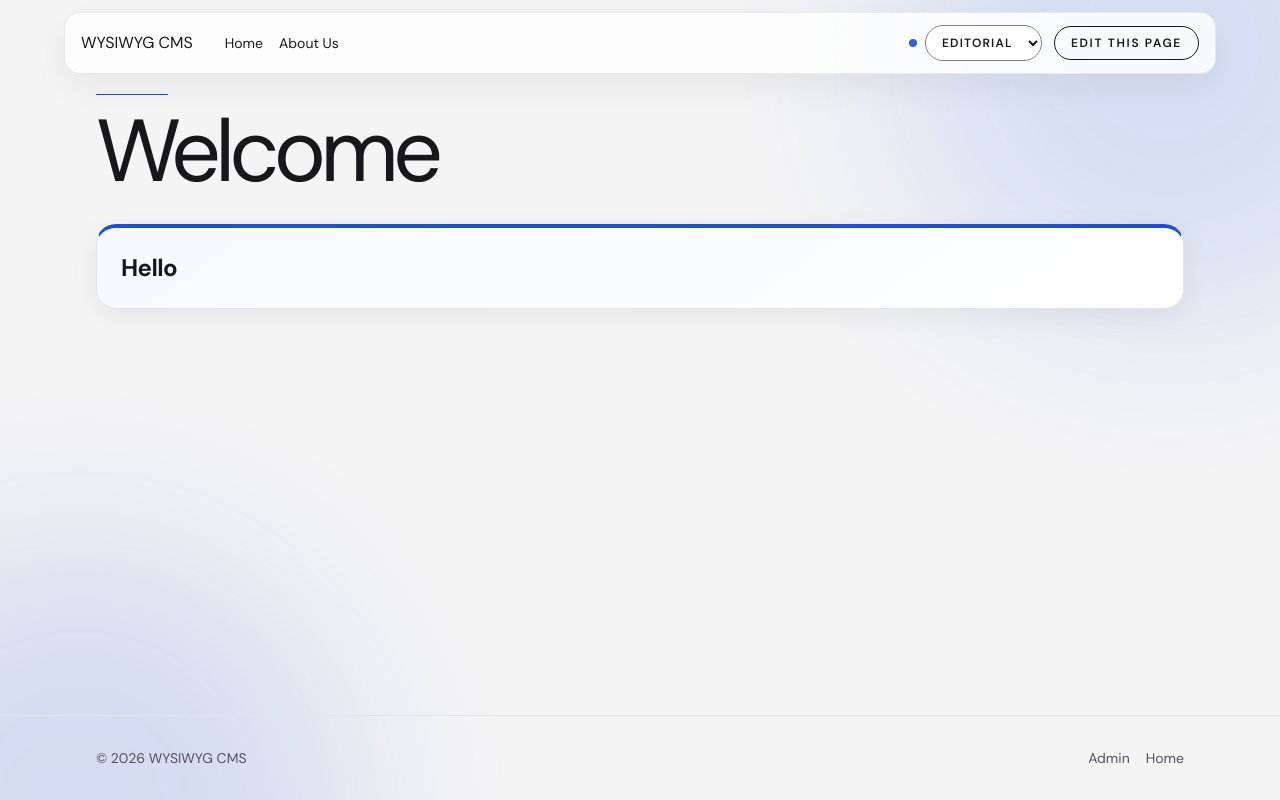
Test: EditableSitePage › edit toolbar buttons are accessible by role and name
Click the button "Edit this page" at (1126, 43), box left=1054, top=26, right=1199, bottom=60
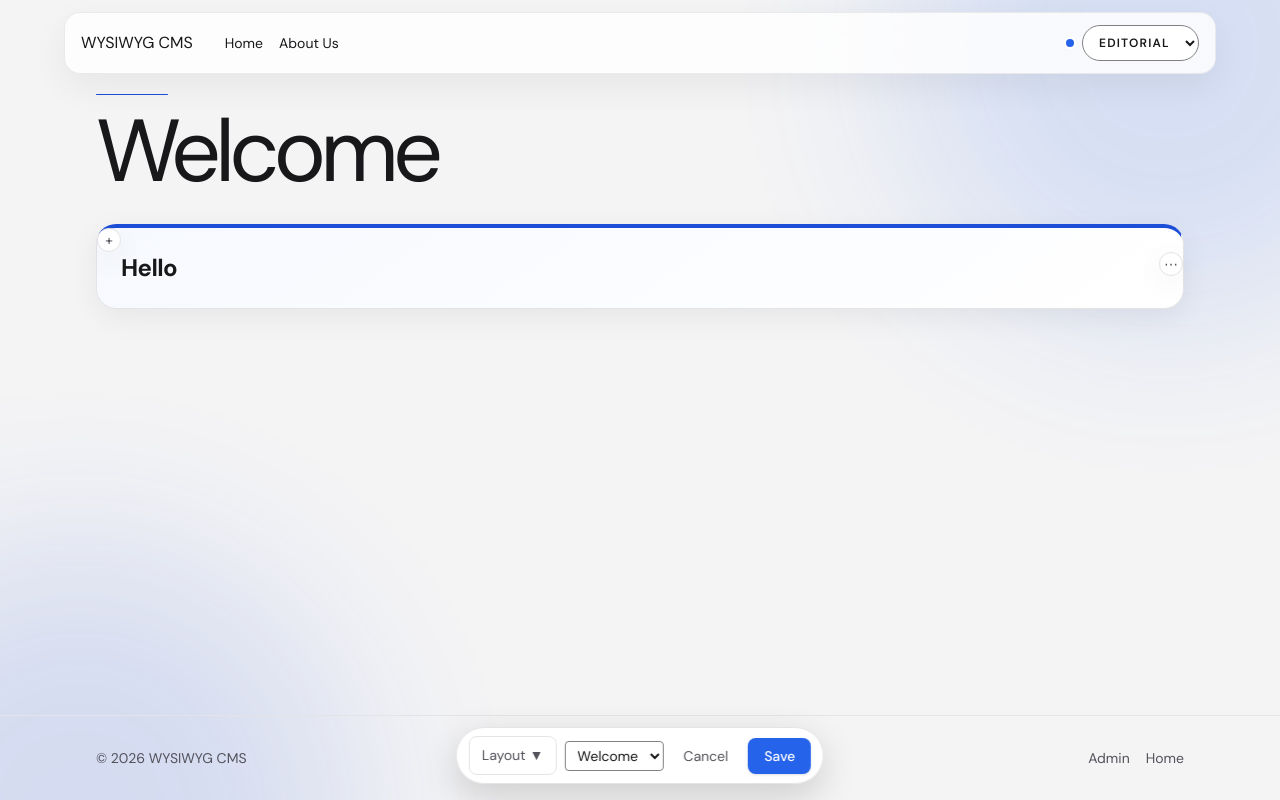
Expected: the button "Save" is shown, left=748, top=738, right=811, bottom=774
Expected: the button "Cancel" is shown, left=671, top=742, right=740, bottom=770
Expected: the button with aria-label "Choose layout" is shown
Click the button with aria-label "Choose layout" at (513, 756), box left=469, top=736, right=556, bottom=775
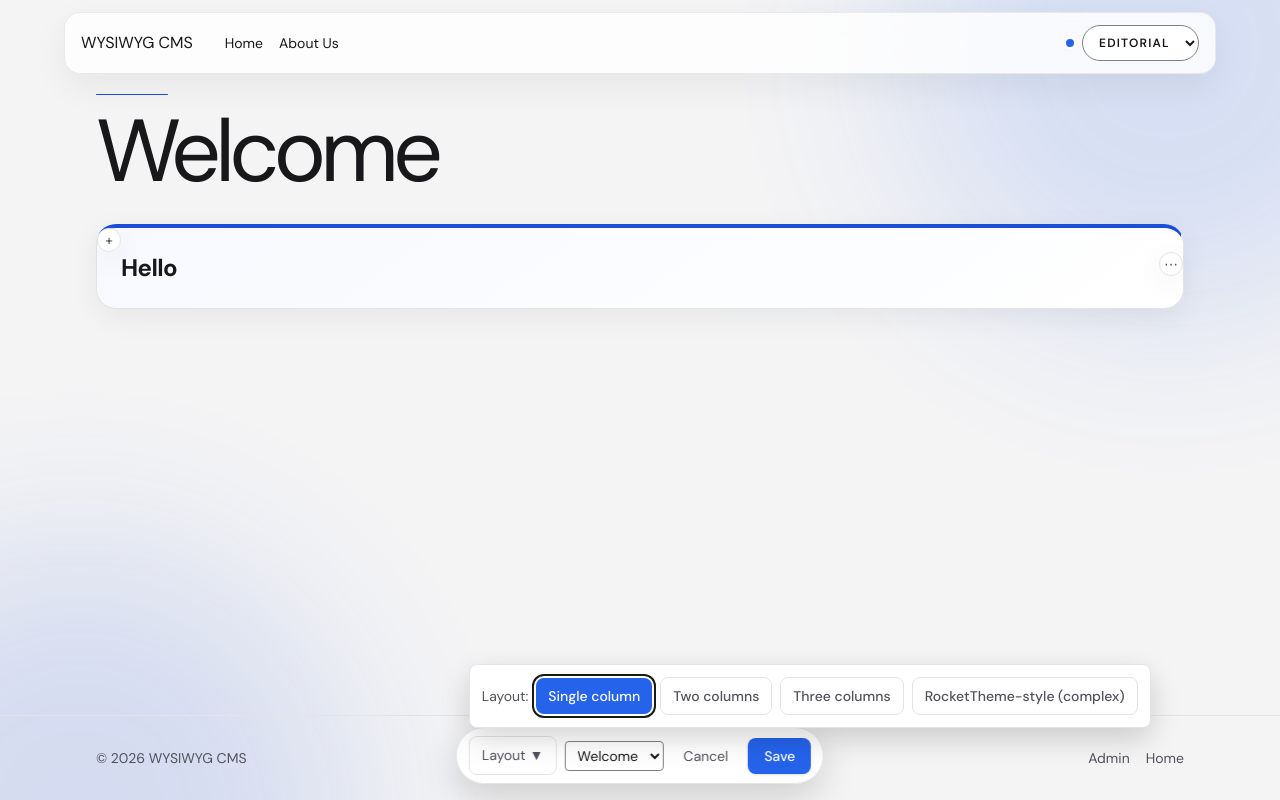
Expected: the button "Single column" is shown, left=536, top=678, right=652, bottom=714
